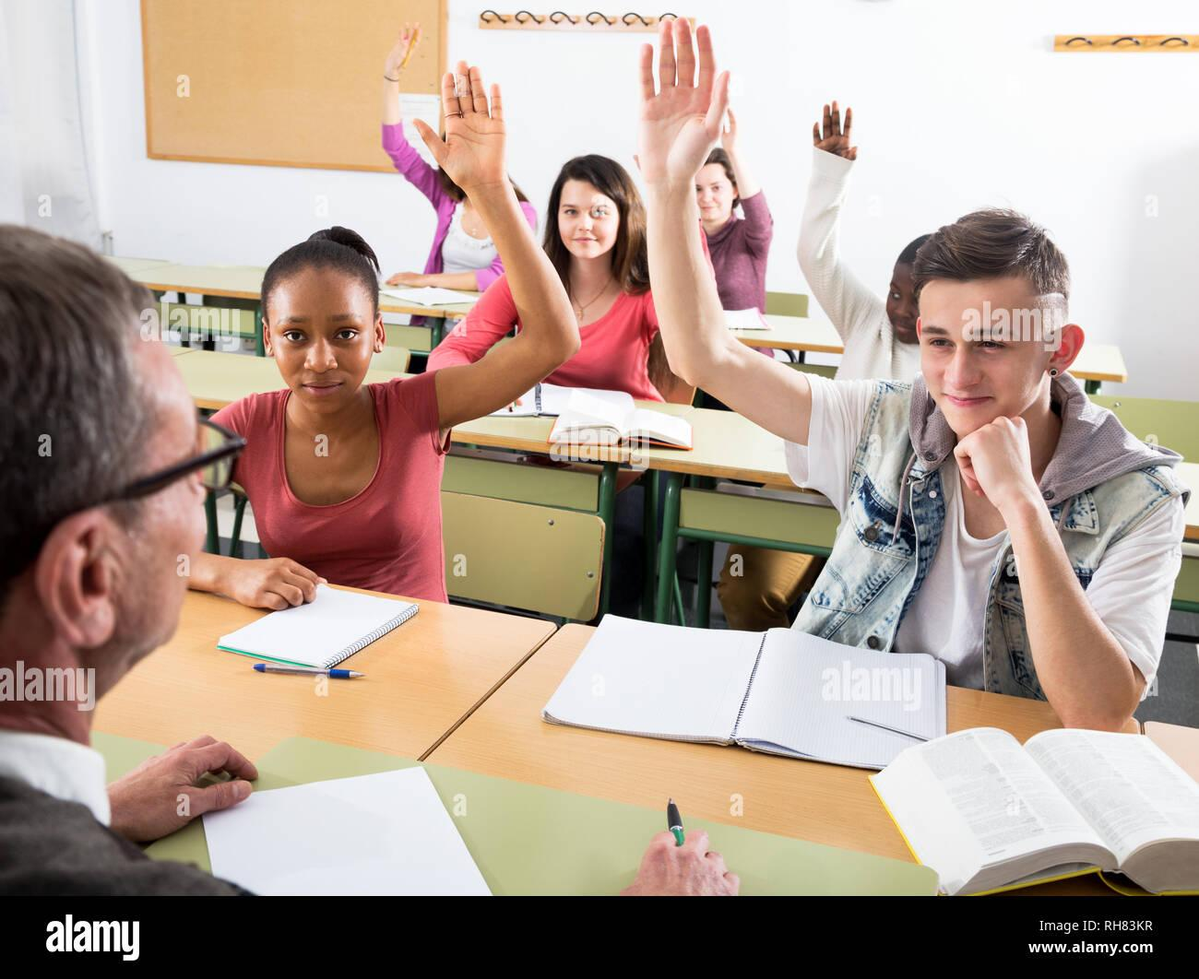study: (632, 19, 1186, 745), (194, 64, 577, 623), (801, 104, 940, 384)
